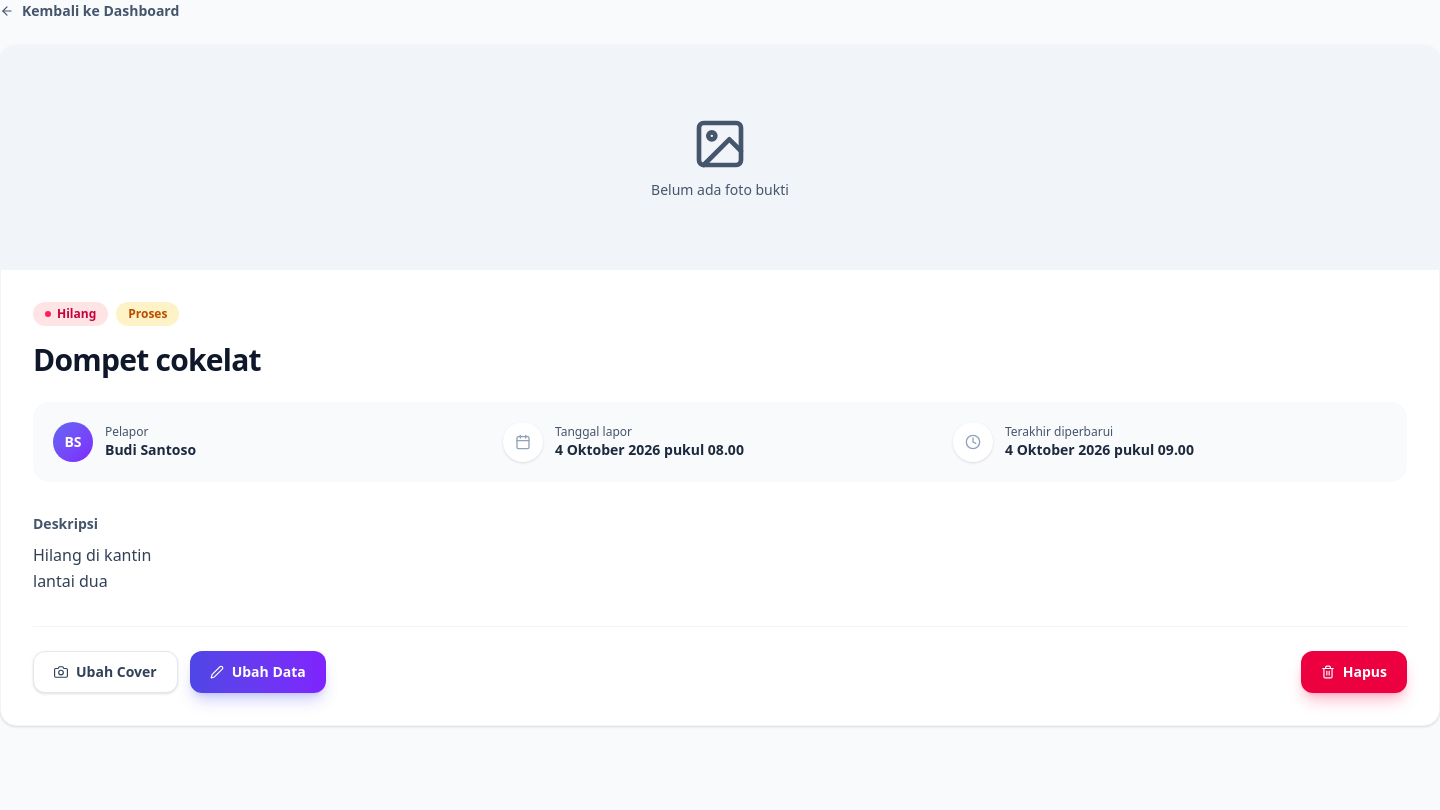
Test case: DetailPage › ubah data › membuka modal, menyimpan perubahan, lalu memuat ulang rincian
This screenshot has width=1440, height=810.
Expected: the heading "Dompet cokelat" is shown, x1=33 y1=339 x2=261 y2=380
Click the button "Ubah Data" at coordinates (258, 672), box x1=190 y1=651 x2=326 y2=693
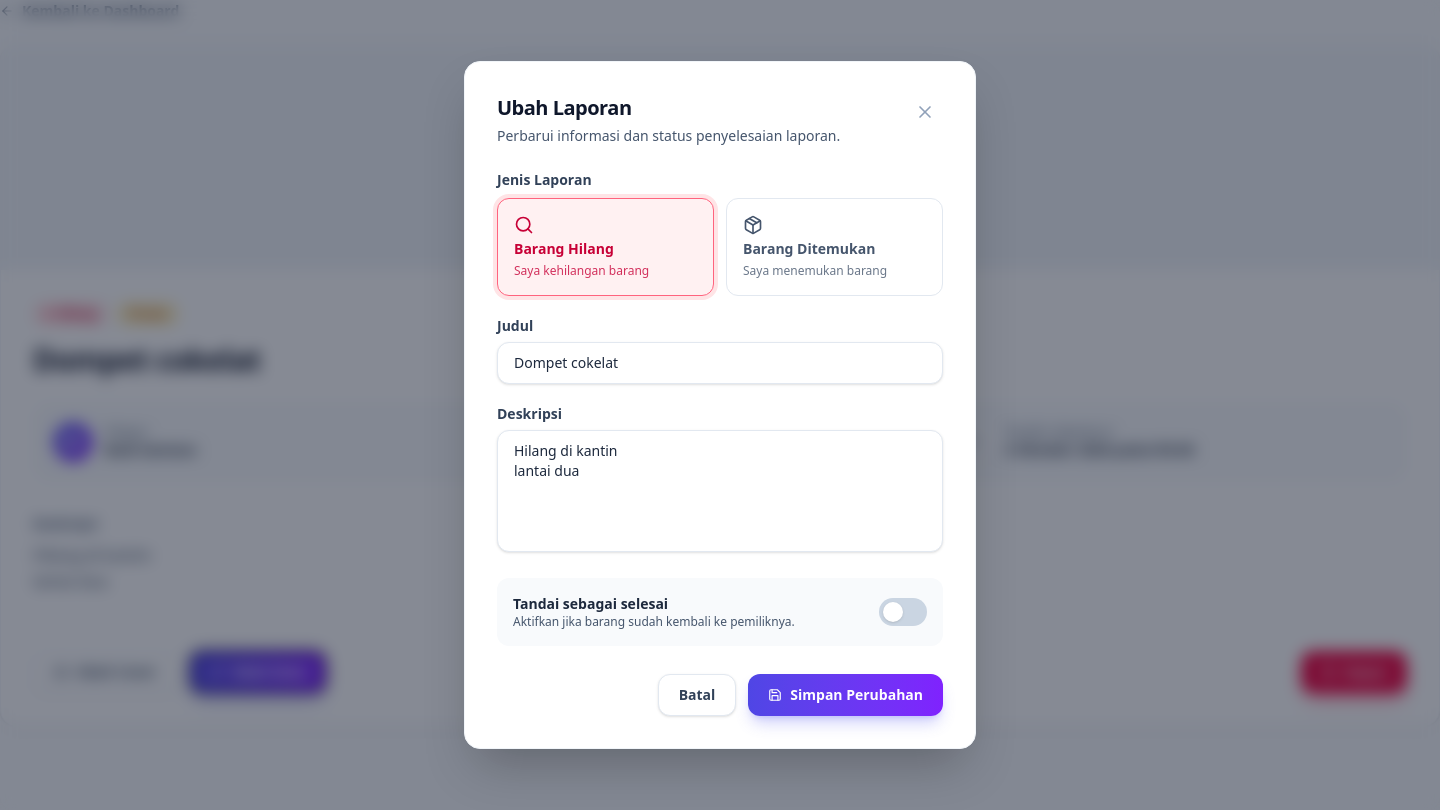
Expected: the dialog "Ubah Laporan" is shown, x1=464 y1=61 x2=976 y2=749
Replace the text in the field labelled "Judul" with "Dompet hitam" at coordinates (720, 363), box x1=497 y1=342 x2=943 y2=384
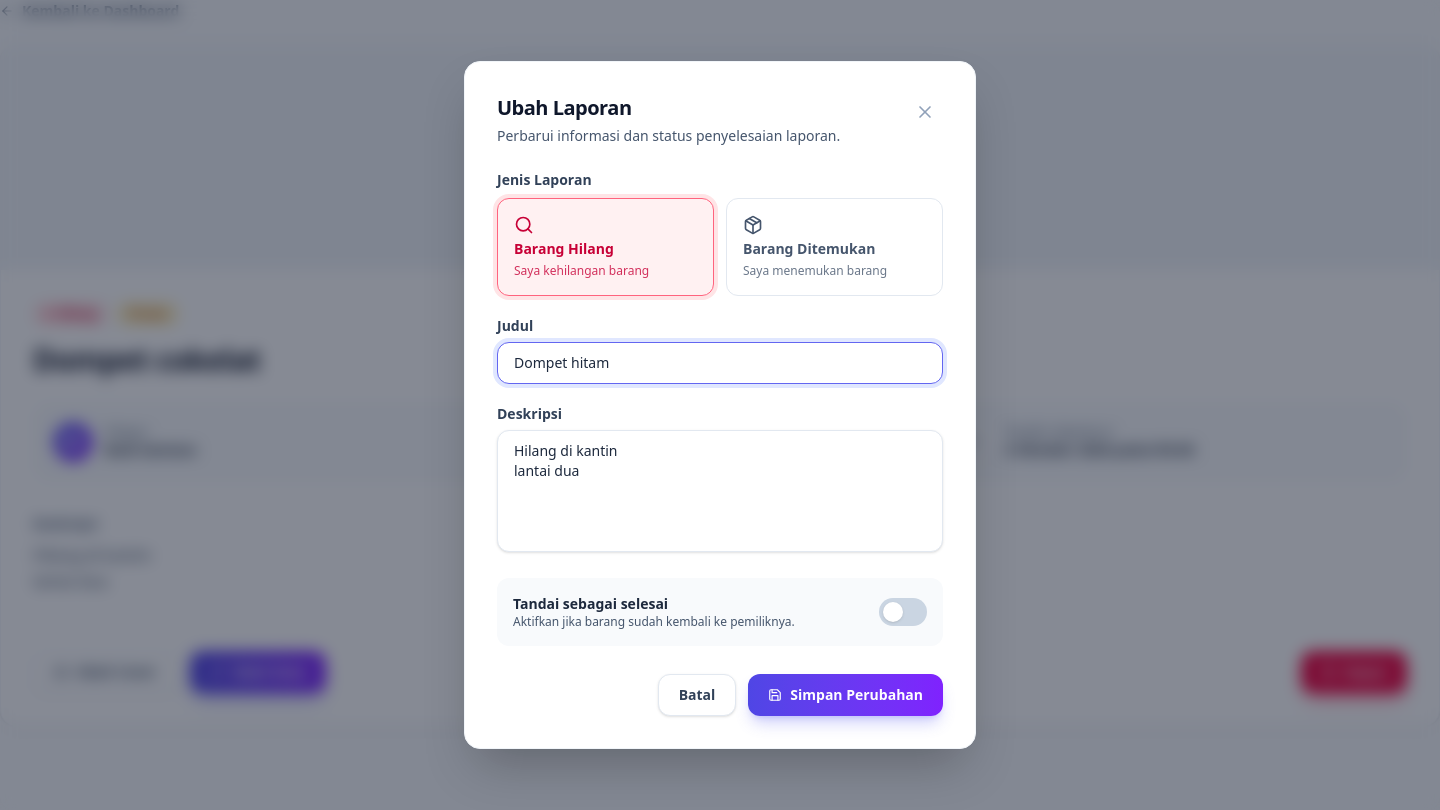
Click the button "Simpan Perubahan" at coordinates (846, 695), box x1=748 y1=674 x2=943 y2=716
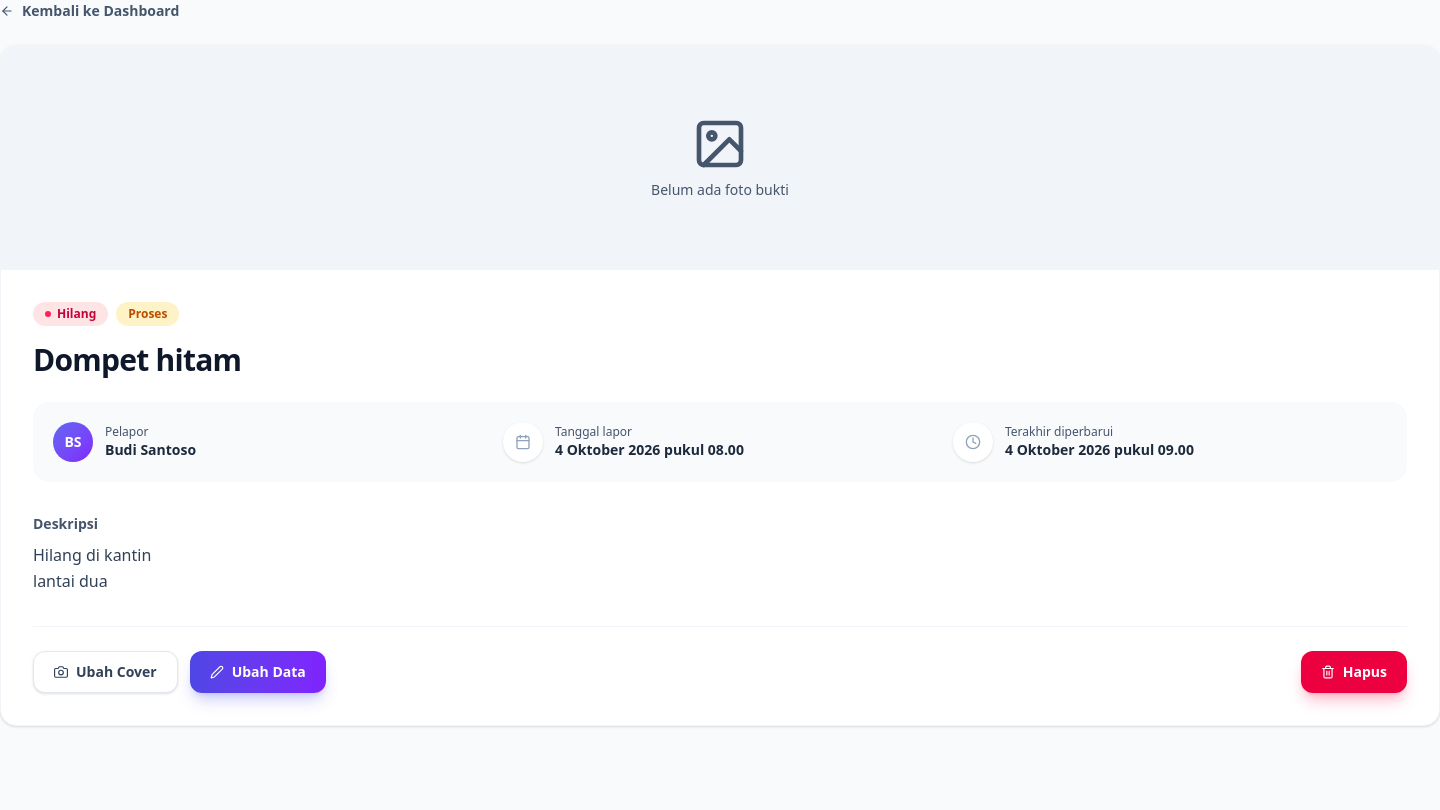
Expected: the heading "Dompet hitam" is shown, x1=33 y1=339 x2=241 y2=380
Expected: the dialog is gone
